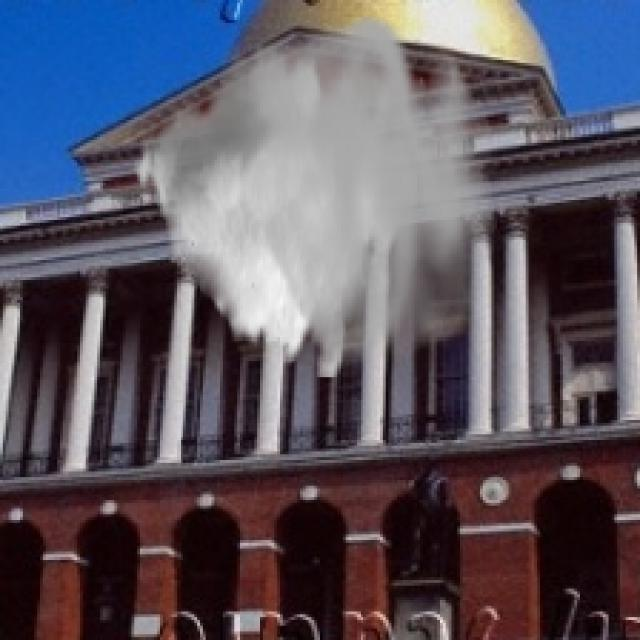smoke: (132, 9, 497, 377)
